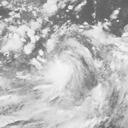cyclone: (45, 57, 80, 91)
